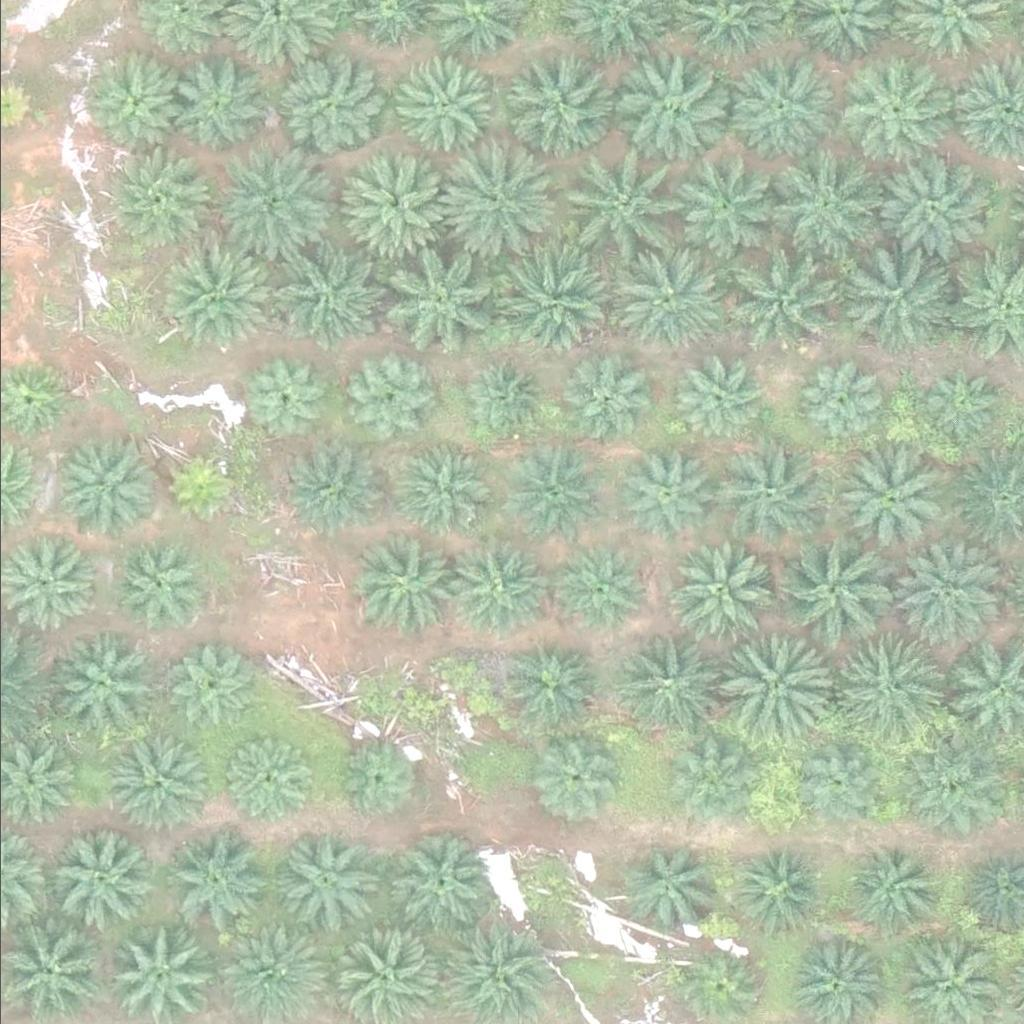Kelapa_Sawit: (432, 149, 546, 262), (47, 625, 160, 738), (611, 247, 724, 360), (492, 243, 605, 356), (376, 236, 489, 349), (607, 43, 720, 156), (828, 627, 941, 740), (874, 148, 987, 261), (260, 235, 374, 347), (156, 239, 270, 351), (99, 141, 213, 253), (661, 544, 775, 656), (601, 630, 714, 742), (211, 149, 324, 261), (338, 149, 451, 261), (563, 156, 676, 268), (502, 41, 615, 153), (715, 634, 828, 746), (783, 535, 896, 647), (892, 531, 1005, 643), (832, 445, 945, 557), (711, 434, 824, 546), (840, 240, 953, 352), (730, 245, 843, 357), (675, 147, 788, 259), (766, 146, 879, 258), (719, 53, 832, 165), (166, 833, 267, 933), (442, 539, 543, 639), (350, 535, 451, 635), (110, 536, 211, 636), (394, 440, 495, 540), (285, 441, 386, 541), (48, 434, 149, 534), (388, 55, 489, 155), (276, 55, 377, 155), (167, 57, 268, 157), (615, 840, 716, 940), (895, 734, 996, 834), (836, 61, 937, 161), (221, 923, 321, 1023), (389, 835, 489, 935), (265, 825, 365, 925), (52, 826, 152, 926), (108, 735, 208, 835), (621, 447, 721, 547), (492, 442, 592, 542), (82, 57, 182, 157), (228, 734, 317, 822), (157, 444, 245, 532), (526, 733, 614, 821), (166, 640, 254, 728), (559, 545, 647, 633), (241, 353, 329, 441), (349, 357, 437, 445), (727, 846, 815, 934), (331, 736, 419, 823), (503, 641, 591, 728), (457, 355, 545, 442), (562, 355, 650, 442), (847, 841, 935, 928), (792, 742, 880, 829), (676, 738, 764, 825), (674, 358, 762, 445), (798, 358, 886, 445), (920, 367, 996, 442)
